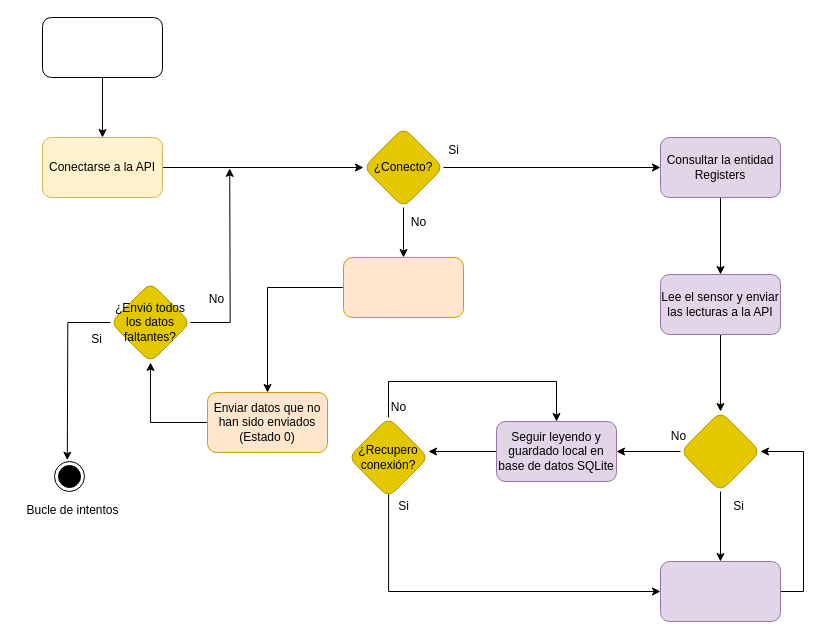
This 829x639 diagram has some shape labels left out. The shapes that lost their labels are listed below. From the top down, each one's centre as x and y in pixels, then its label:
the point at 102,47: INICIO
the point at 403,287: Reintentar
the point at 720,451: ¿Envió?
the point at 720,591: Segir leendo y subiendo datos
